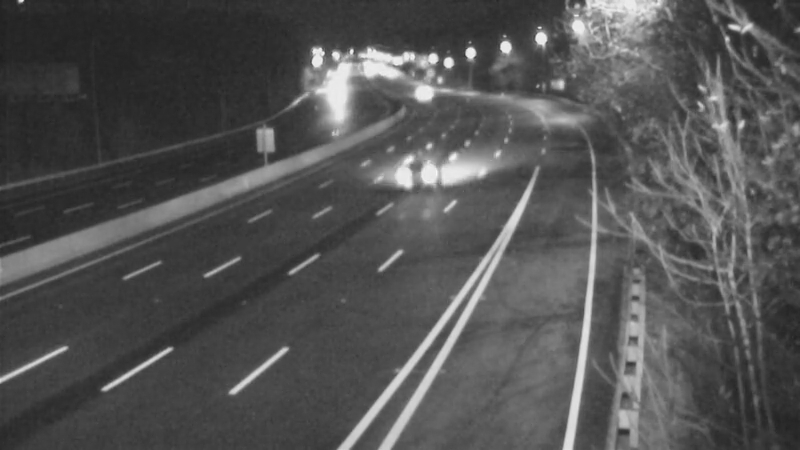vehicle: (390, 130, 470, 210), (398, 71, 448, 121), (304, 80, 354, 130)
